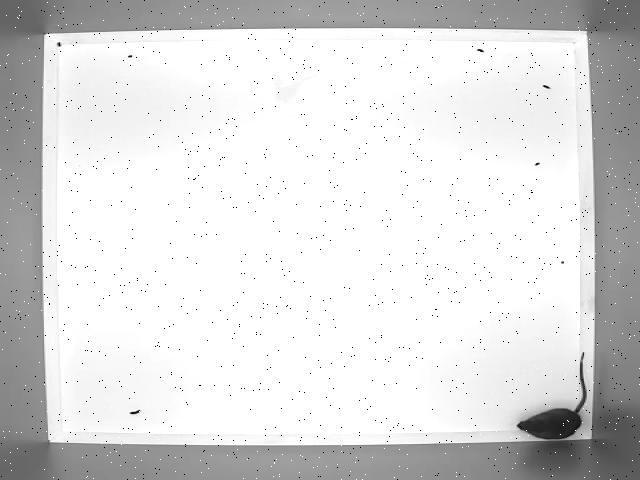Tikus: (516, 352, 592, 439)
